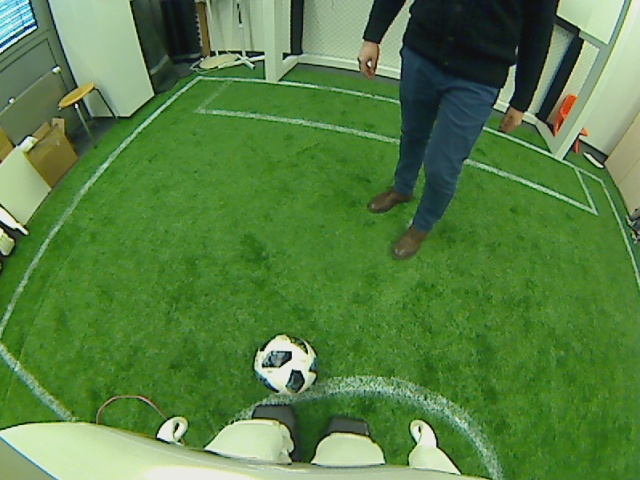ball: (251, 332, 318, 399)
